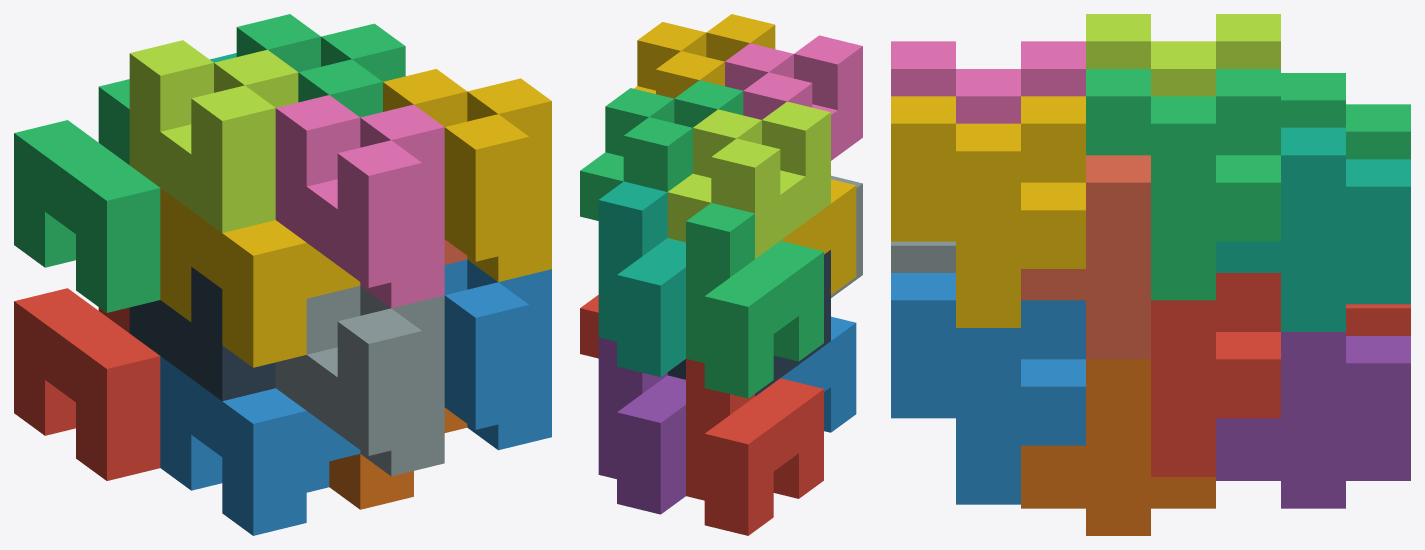
The model's file is tiling.obj.
3 renders of one model, left to right at view 1: azimuth 30°, elevation 25°; view 2: azimuth 150°, elevation 25°; view 3: azimuth 270°, elevation 25°, orthographic. The views are drawn at different scales.
Parts seen in each view (by area): view 1: copy_2_domain_4, copy_2_domain_3, copy_1_domain_3, copy_2_domain_2, copy_2_domain_8, copy_1_domain_1, copy_1_domain_2, copy_1_domain_4, copy_2_domain_6, copy_2_domain_7, copy_2_domain_1, copy_1_domain_6; view 2: copy_1_domain_3, copy_1_domain_1, copy_2_domain_3, copy_1_domain_7, copy_1_domain_5, copy_2_domain_7, copy_2_domain_4, copy_2_domain_8, copy_1_domain_2, copy_1_domain_4, copy_2_domain_1, copy_2_domain_5 (+1 smaller); view 3: copy_2_domain_8, copy_2_domain_6, copy_2_domain_7, copy_1_domain_5, copy_1_domain_7, copy_2_domain_5, copy_1_domain_6, copy_1_domain_8, copy_2_domain_4, copy_2_domain_3, copy_1_domain_3, copy_1_domain_1 (+1 smaller).
Part boxes in pixels (x1,y1,x2,y2): copy_2_domain_4: (275,95,444,308); copy_2_domain_3: (129,40,298,232); copy_1_domain_3: (14,79,160,312); copy_2_domain_2: (275,286,444,476); copy_2_domain_8: (383,69,551,281); copy_1_domain_1: (14,288,160,480); copy_1_domain_2: (160,356,360,535); copy_1_domain_4: (160,188,360,367); copy_2_domain_6: (444,259,551,450); copy_2_domain_7: (236,14,405,117); copy_2_domain_1: (129,267,275,401); copy_1_domain_6: (329,407,467,509); copy_1_domain_3: (686,203,823,398); copy_1_domain_1: (686,359,823,535); copy_2_domain_3: (667,101,830,258); copy_1_domain_7: (598,181,685,376); copy_1_domain_5: (598,337,685,514); copy_2_domain_7: (580,80,743,220); copy_2_domain_4: (725,35,862,160); copy_2_domain_8: (634,14,775,98); copy_1_domain_2: (780,316,856,432); copy_1_domain_4: (780,179,856,294); copy_2_domain_1: (667,250,830,396); copy_2_domain_5: (580,295,598,358); copy_2_domain_8: (891,96,1085,327); copy_2_domain_6: (891,273,1085,504); copy_2_domain_7: (1086,69,1280,300); copy_1_domain_5: (1216,332,1410,508); copy_1_domain_7: (1216,127,1410,331); copy_2_domain_5: (1151,273,1280,476); copy_1_domain_6: (1021,359,1215,535); copy_1_domain_8: (1021,155,1150,359); copy_2_domain_4: (891,41,1085,123); copy_2_domain_3: (1086,14,1280,96); copy_1_domain_3: (1281,73,1410,159); copy_1_domain_1: (1346,304,1410,335).
Size of the model in its own units: 6 by 7 by 8.
